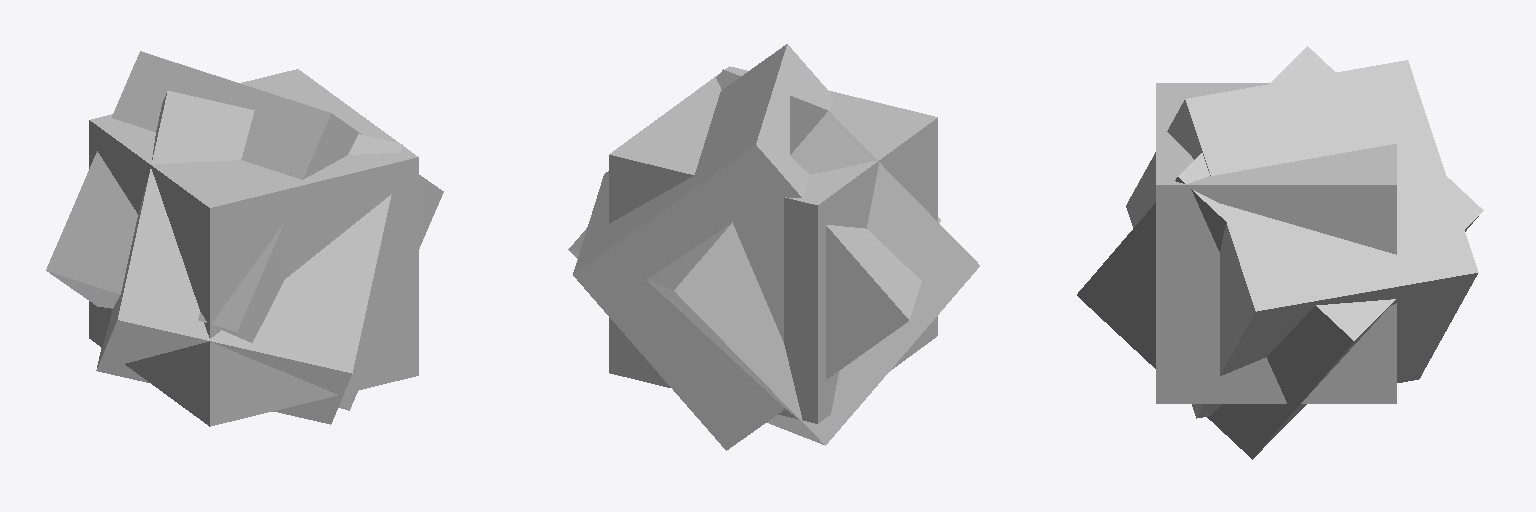
The model's file is testrasengan.obj.
3 renders of one model, left to right at view 1: azimuth 30°, elevation 25°; view 2: azimuth 150°, elevation 25°; view 3: azimuth 270°, elevation 25°, orthographic.
Visible parts, largest first — view 1: cube; view 2: cube; view 3: cube.
Part boxes in pixels (bbox=[...]): cube: bbox=[46, 51, 443, 426]; cube: bbox=[568, 44, 979, 450]; cube: bbox=[1077, 46, 1483, 459].
Bounding box in the file's own units: 0.5263 × 0.4965 × 0.5279.